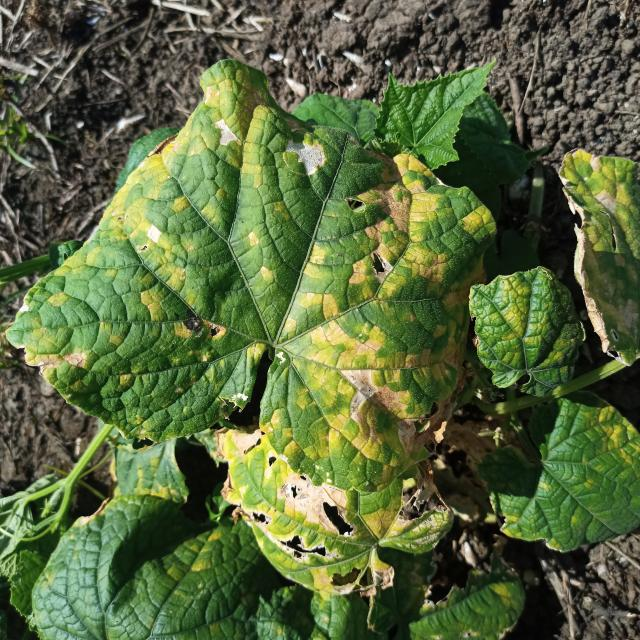disease_cucumber: (11, 59, 473, 590)
